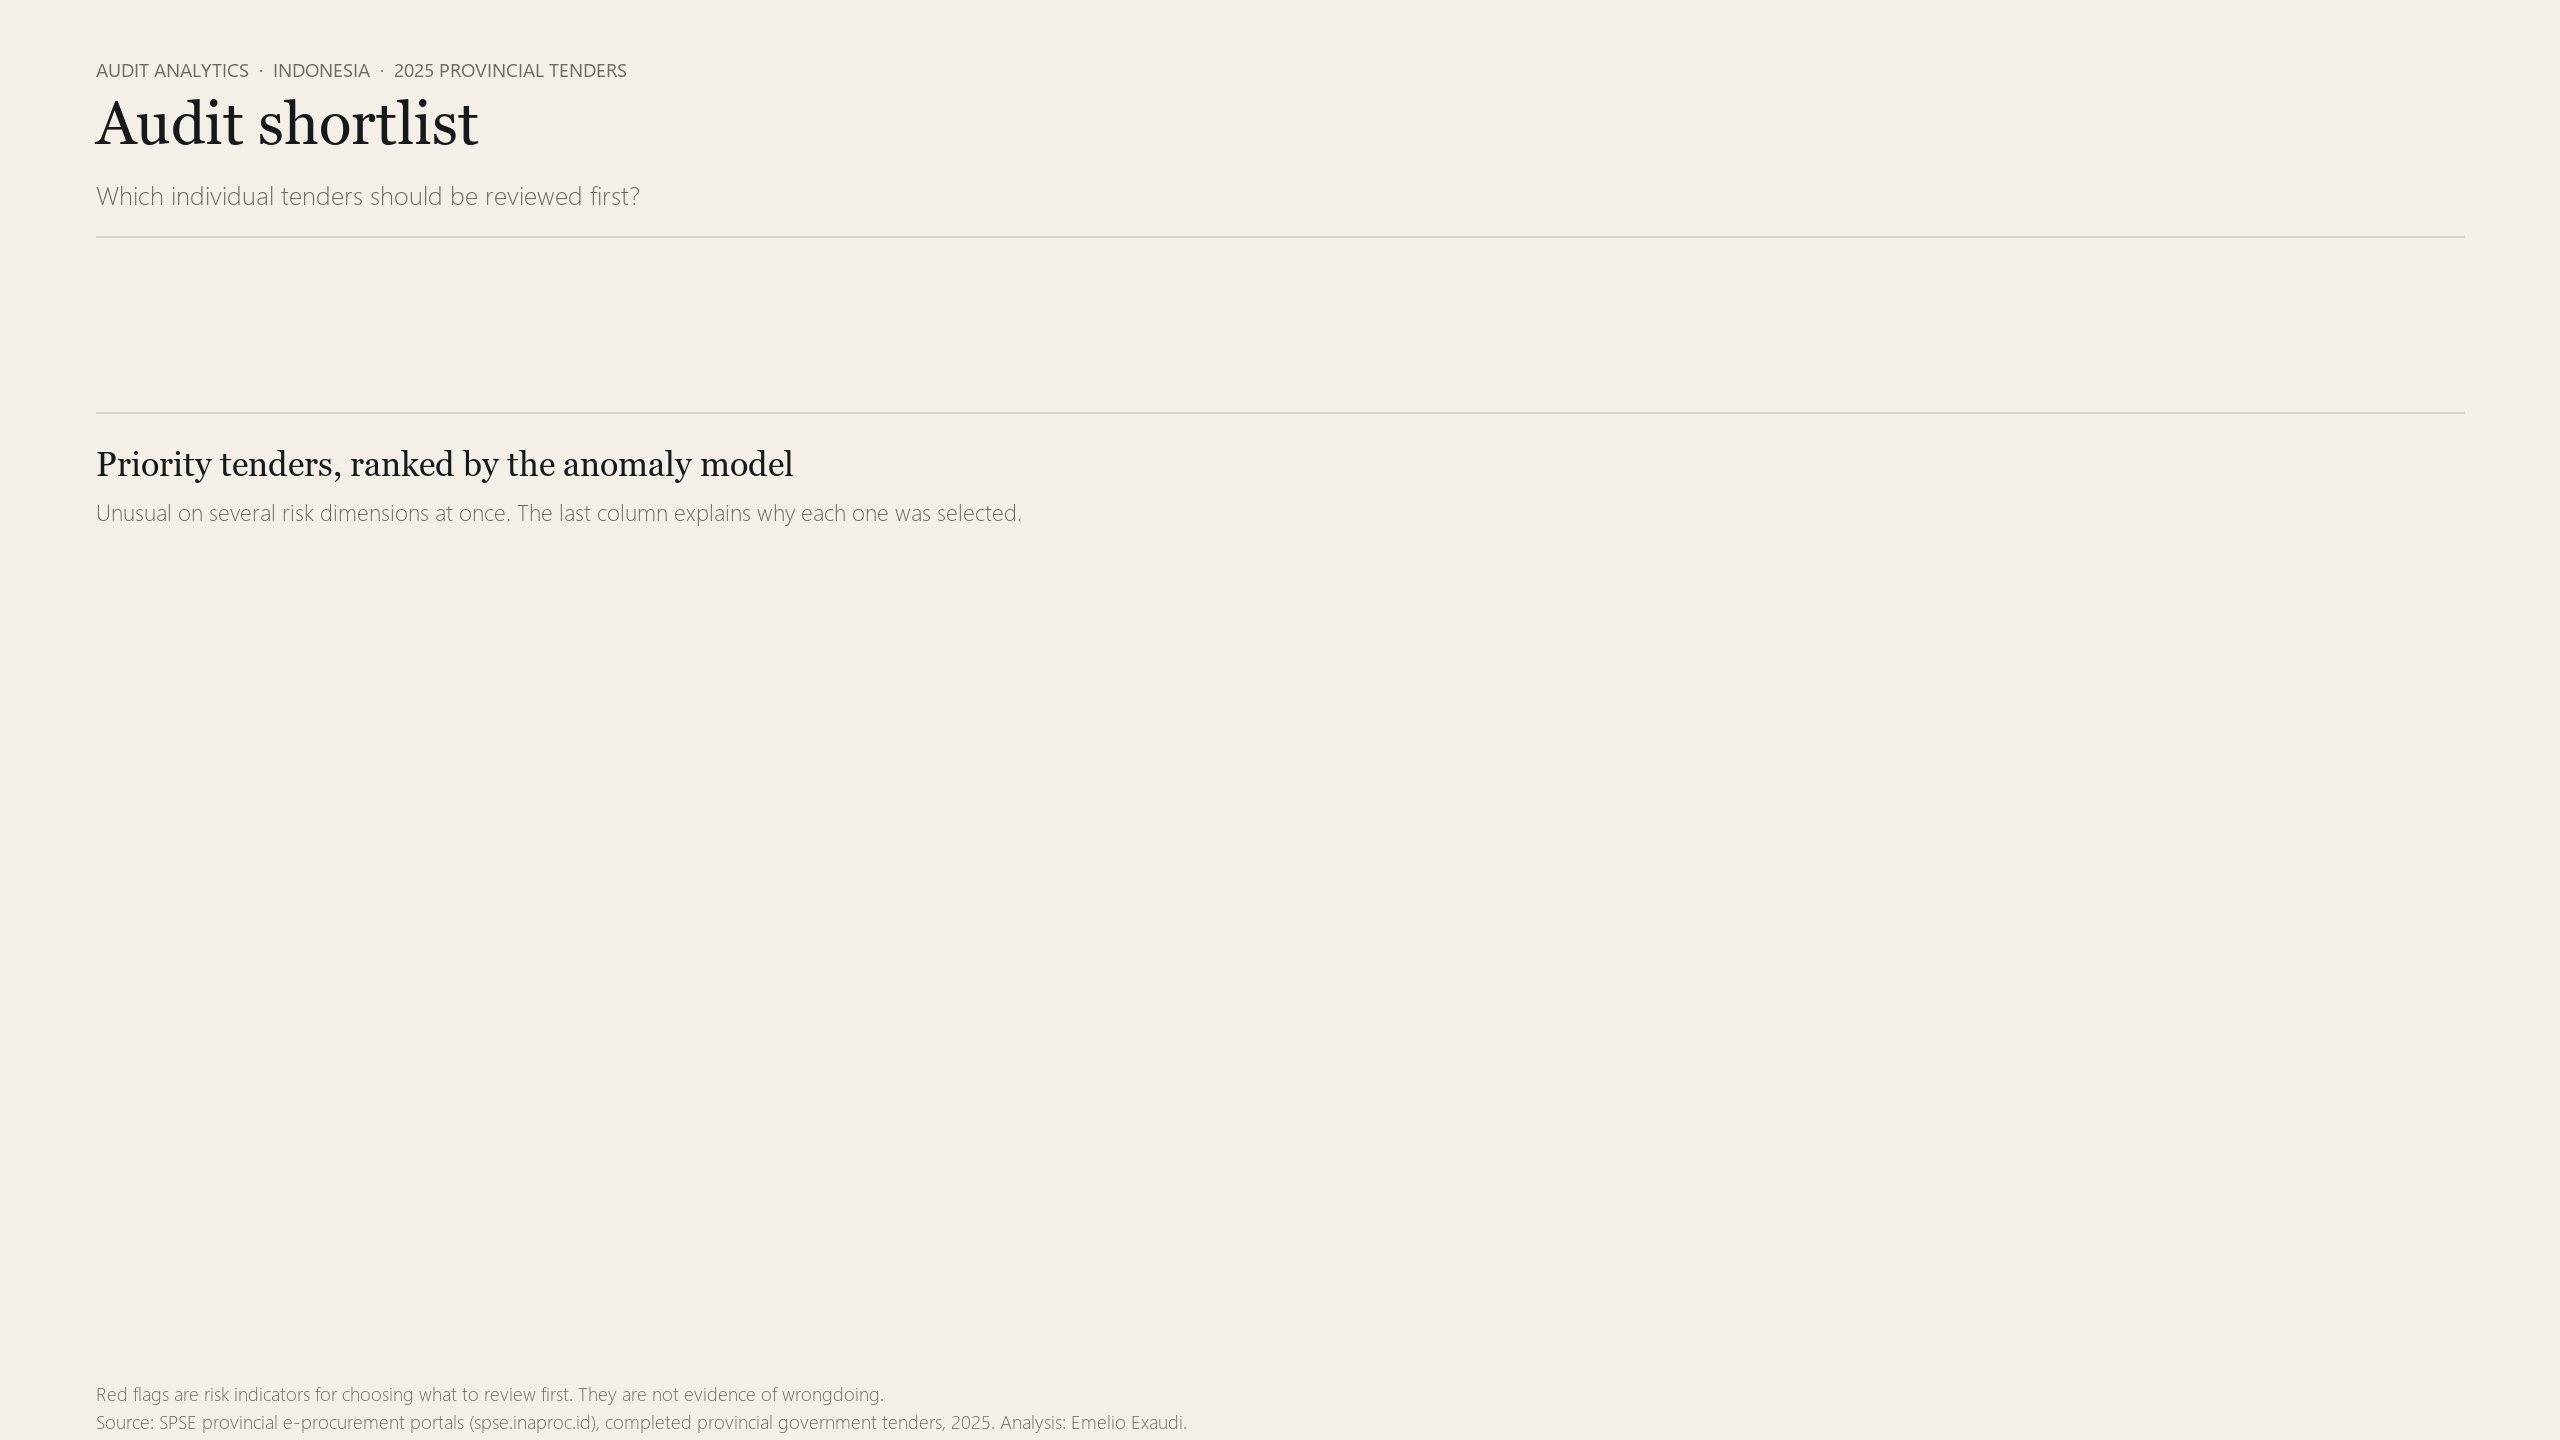

The page's visual inventory and layout, read from the dashboard file:
{"tool":"powerbi","page":{"name":"Audit shortlist","canvas":[1280,720],"ordinal":3},"visuals":[{"type":"tableEx","fields":{"Values":["priority.priority_rank","priority.province","priority.tender_name","priority.winner_name","flags.Priority Value","priority.risk_score","priority.reason"]},"box":[36,278,1200,400],"z":0},{"type":"slicer","fields":{"Values":["tenders.province"]},"box":[48,138,260,58],"z":1},{"type":"slicer","fields":{"Values":["tenders.family"]},"box":[324,138,260,58],"z":2},{"type":"cardVisual","fields":{"Data":["flags.Shortlist Count"]},"box":[996,134,240,66],"z":3},{"type":"pageNavigator","box":[768,26,480,32],"z":4}]}

Visuals, with their boxes in screenshot pixels (x1, y1, x2, y2), scaled from the page's 1280x720 canvas onto the 2560x1440 screenshot:
tableEx - priority.priority_rank x priority.province: locate(72, 556, 2472, 1356)
slicer - tenders.province: locate(96, 276, 616, 392)
slicer - tenders.family: locate(648, 276, 1168, 392)
cardVisual - flags.Shortlist Count: locate(1992, 268, 2472, 400)
pageNavigator: locate(1536, 52, 2496, 116)
